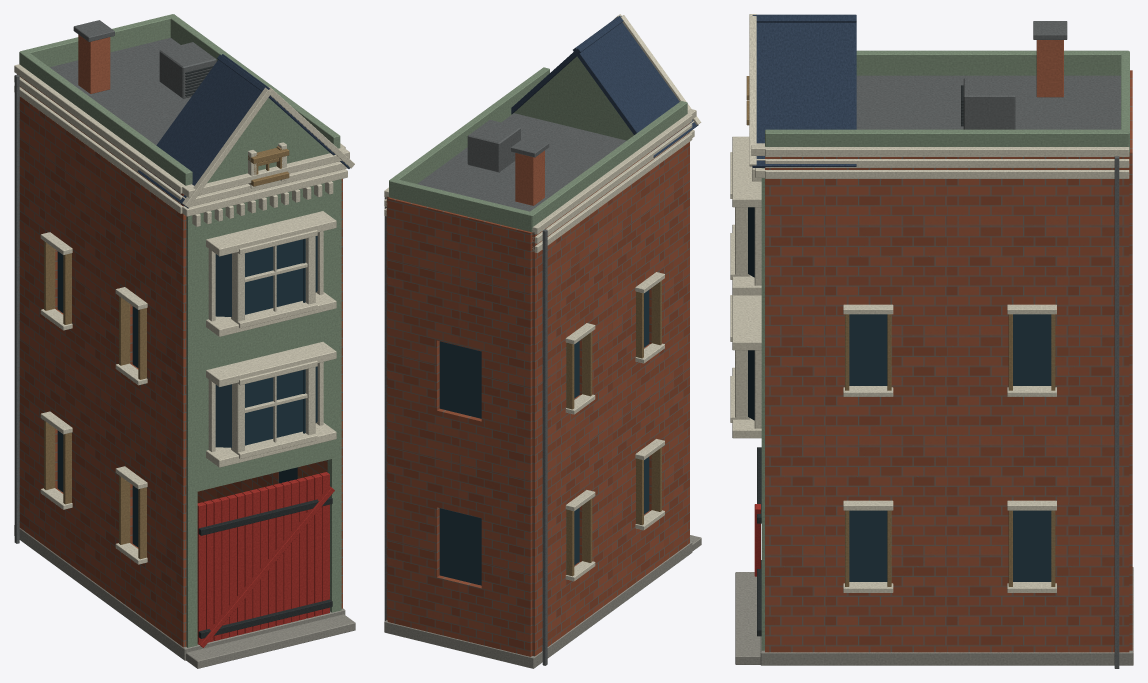
Rendered from VICT12_lod1.glb.
3 renders of one model, left to right at view 1: azimuth 30°, elevation 25°; view 2: azimuth 150°, elevation 25°; view 3: azimuth 270°, elevation 25°, orthographic. The views are drawn at different scales.
Visible parts, largest first — view 1: VICT12_LOD1; view 2: VICT12_LOD1; view 3: VICT12_LOD1.
Part boxes in pixels (bbox=[...]): VICT12_LOD1: bbox=[14, 14, 355, 668]; VICT12_LOD1: bbox=[384, 14, 701, 668]; VICT12_LOD1: bbox=[730, 14, 1133, 668].
Bounding box in the file's own units: 3.71 × 11.05 × 6.65.
Materials: 12 (10 with a texture image).
